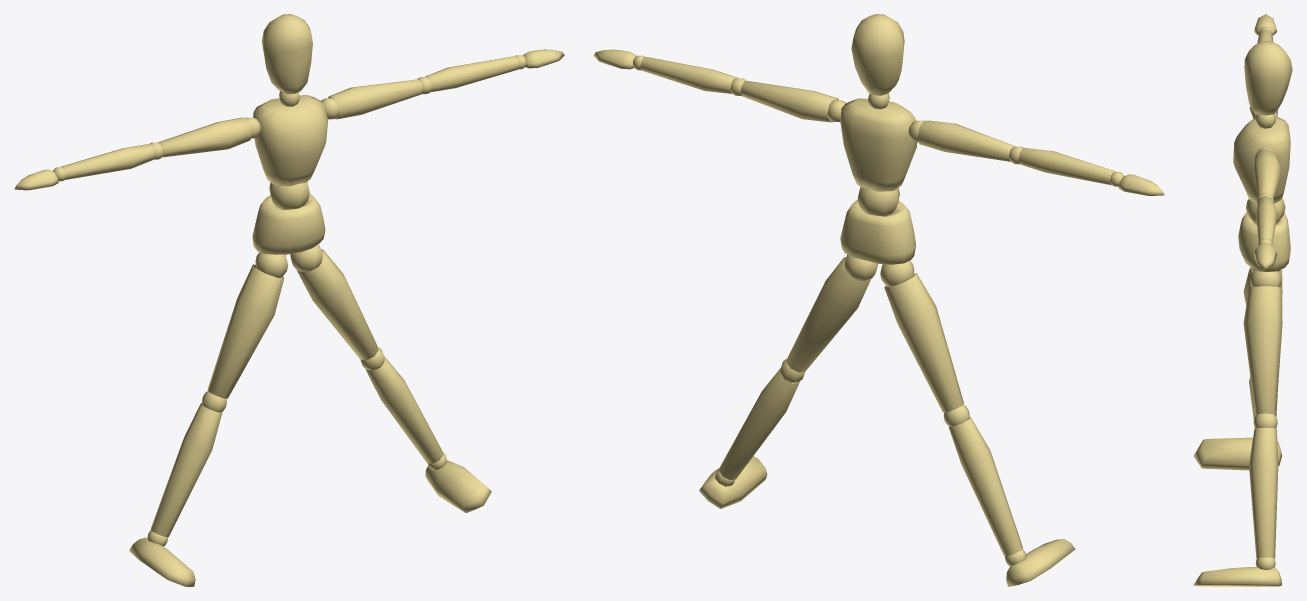
File: Mannaquin.dae
3 views of the same model, side by side, from view 1: azimuth 30°, elevation 25°; view 2: azimuth 150°, elevation 25°; view 3: azimuth 270°, elevation 25° (orthographic). The views are drawn at different scales.
Visible parts, largest first — view 1: Cylinder_003, Cylinder_002, Cylinder_001, Cylinder_006, Cylinder, Sphere_008, Cylinder_007, Cylinder_004, Cylinder_009, Sphere_014, Sphere, Cylinder_005 (+3 smaller); view 2: Cylinder_003, Cylinder_002, Cylinder_001, Cylinder_006, Cylinder, Sphere_008, Cylinder_007, Cylinder_004, Cylinder_009, Cylinder_005, Cylinder_008, Sphere_014 (+3 smaller); view 3: Cylinder_006, Cylinder_007, Cylinder_003, Sphere_008, Cylinder_002, Sphere, Sphere_014, Cylinder_009, Cylinder_008, Sphere_016, Sphere_009, Cylinder_001 (+1 smaller).
Boxes of the visible parts, left/top/right/bottom form: Cylinder_003: left=246, top=91, right=339, bottom=186; Cylinder_002: left=252, top=182, right=325, bottom=277; Cylinder_001: left=202, top=264, right=284, bottom=412; Cylinder_006: left=297, top=249, right=384, bottom=370; Cylinder: left=150, top=403, right=222, bottom=537; Sphere_008: left=261, top=14, right=312, bottom=94; Cylinder_007: left=365, top=356, right=443, bottom=463; Cylinder_004: left=149, top=117, right=252, bottom=159; Cylinder_009: left=328, top=77, right=432, bottom=119; Sphere_014: left=425, top=451, right=491, bottom=513; Sphere: left=129, top=530, right=195, bottom=586; Cylinder_005: left=61, top=144, right=154, bottom=179; Cylinder_003: left=827, top=93, right=923, bottom=191; Cylinder_002: left=840, top=187, right=915, bottom=286; Cylinder_001: left=884, top=273, right=969, bottom=426; Cylinder_006: left=780, top=257, right=870, bottom=383; Cylinder: left=948, top=417, right=1022, bottom=556; Sphere_008: left=851, top=14, right=904, bottom=95; Cylinder_007: left=719, top=368, right=799, bottom=479; Cylinder_004: left=917, top=120, right=1023, bottom=164; Cylinder_009: left=730, top=78, right=838, bottom=122; Cylinder_005: left=1018, top=148, right=1116, bottom=185; Cylinder_008: left=640, top=56, right=737, bottom=93; Sphere_014: left=699, top=456, right=767, bottom=508; Cylinder_006: left=1243, top=286, right=1282, bottom=428; Cylinder_007: left=1249, top=427, right=1278, bottom=558; Cylinder_003: left=1233, top=114, right=1290, bottom=203; Sphere_008: left=1244, top=41, right=1292, bottom=115; Cylinder_002: left=1238, top=198, right=1290, bottom=287; Sphere: left=1193, top=437, right=1281, bottom=470; Sphere_014: left=1193, top=557, right=1281, bottom=586; Cylinder_009: left=1253, top=149, right=1281, bottom=202; Cylinder_008: left=1256, top=195, right=1277, bottom=243; Sphere_016: left=1254, top=237, right=1276, bottom=269; Sphere_009: left=1254, top=14, right=1277, bottom=35; Cylinder_001: left=1243, top=268, right=1282, bottom=304.
Bounding box in the file's own units: 14.87 × 2.47 × 13.3.
